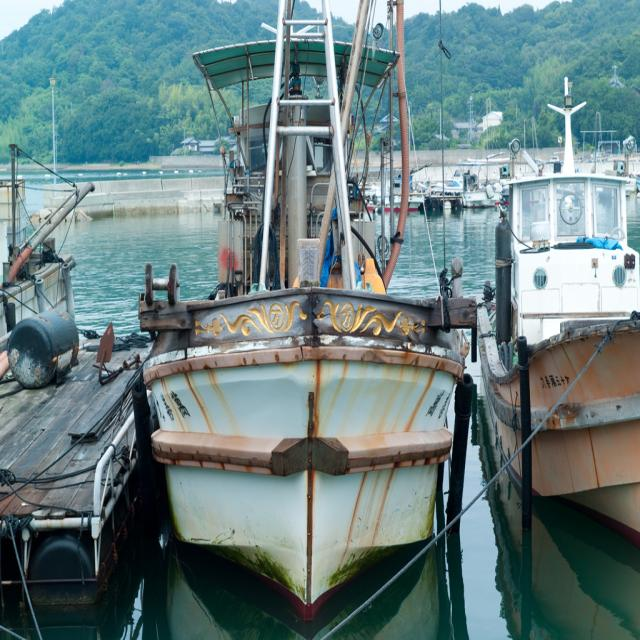Boat: (125, 5, 510, 614), (0, 140, 155, 640), (472, 61, 638, 515), (392, 158, 466, 215), (573, 136, 633, 180), (469, 163, 493, 204)
